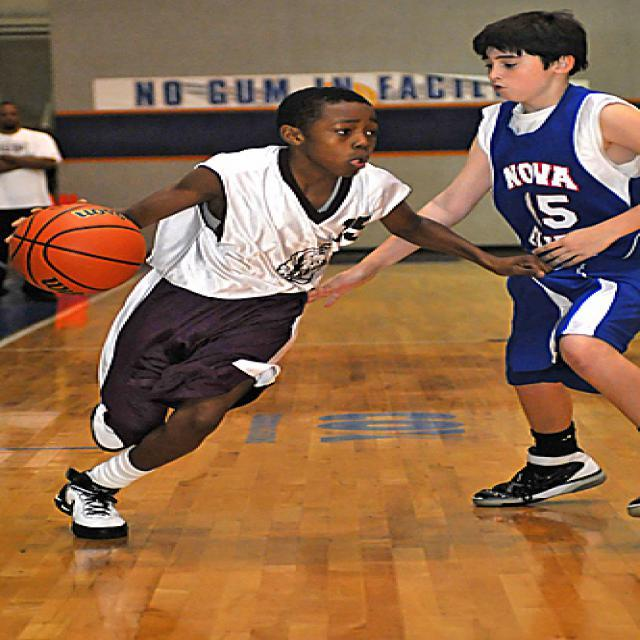basketball: (10, 202, 146, 296)
